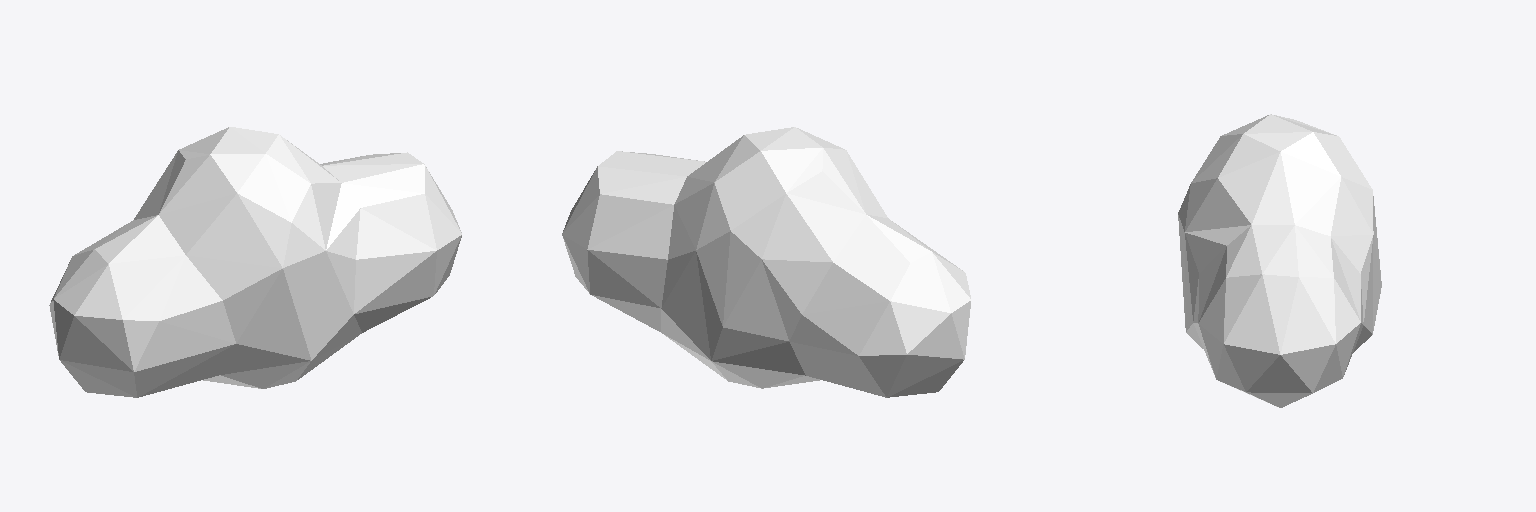
The model's file is cloud.obj.
3 views of the same model, side by side, from view 1: azimuth 30°, elevation 25°; view 2: azimuth 150°, elevation 25°; view 3: azimuth 270°, elevation 25° (orthographic).
Visible parts, largest first — view 1: Cloud_Mesh.002; view 2: Cloud_Mesh.002; view 3: Cloud_Mesh.002.
Boxes of the visible parts, x1=… form: Cloud_Mesh.002: x1=49, y1=127, x2=461, y2=397; Cloud_Mesh.002: x1=562, y1=127, x2=970, y2=397; Cloud_Mesh.002: x1=1178, y1=114, x2=1381, y2=407.
Size of the model in its own units: 4.48 by 2.6 by 2.01.